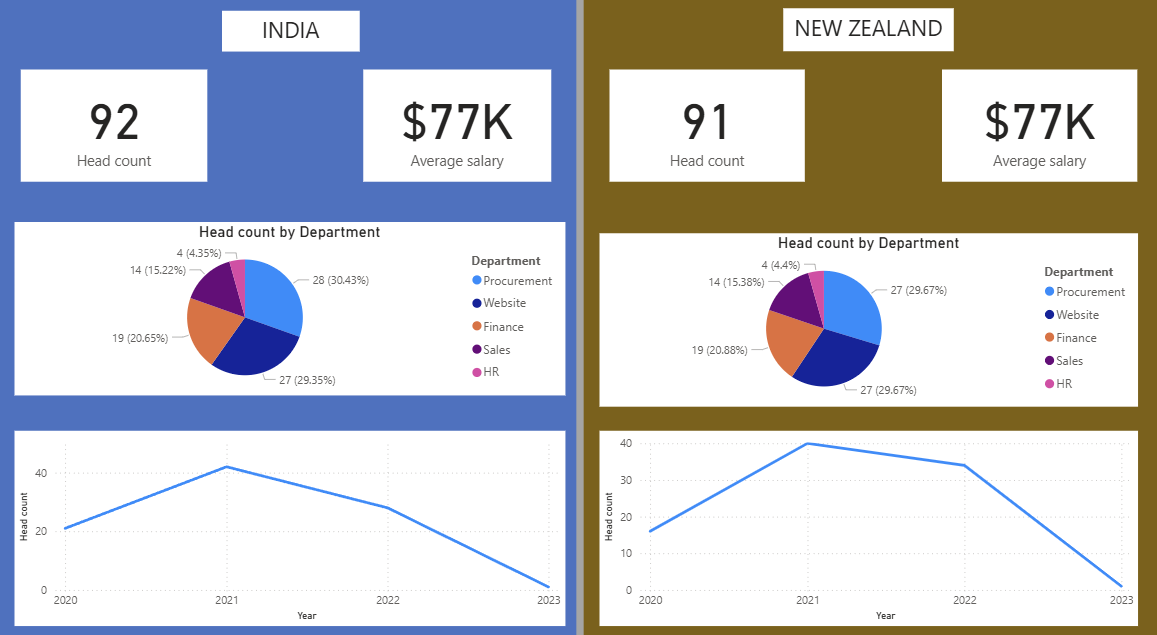

Layout of this report page (visuals, bound fields, positions):
{"tool":"powerbi","page":{"name":"Q 10","canvas":[1280,720],"ordinal":9},"visuals":[{"type":"card","fields":{"Values":["Data.Head count"]},"box":[26.5,85.7,205.1,123.1],"z":0},{"type":"card","fields":{"Values":["Data.Head count"]},"box":[672,85.7,214.7,123.1],"z":1000},{"type":"card","fields":{"Values":["Data.Average salary"]},"box":[401.7,85.7,206.3,123.1],"z":2000},{"type":"card","fields":{"Values":["Data.Average salary"]},"box":[1037.5,85.7,214.7,123.1],"z":3000},{"type":"pieChart","fields":{"Category":["Data.Department"],"Y":["Data.Head count"]},"box":[19.3,252.1,604.4,190.6],"z":3001},{"type":"pieChart","fields":{"Category":["Data.Department"],"Y":["Data.Head count"]},"box":[661.1,264.2,591.2,190.6],"z":3002},{"type":"textbox","box":[247.3,20.5,150.8,44.6],"z":3005},{"type":"textbox","box":[862.6,18.1,187,47.1],"z":3006},{"type":"lineChart","fields":{"Category":["Data.Date Joined.Variation.Date Hierarchy.Year","Data.Date Joined.Variation.Date Hierarchy.Quarter","Data.Date Joined.Variation.Date Hierarchy.Month","Data.Date Joined.Variation.Date Hierarchy.Day"],"Y":["Data.Head count"]},"box":[19.3,481.4,604.4,214.7],"z":3007},{"type":"lineChart","fields":{"Category":["Data.Date Joined.Variation.Date Hierarchy.Year","Data.Date Joined.Variation.Date Hierarchy.Quarter","Data.Date Joined.Variation.Date Hierarchy.Month","Data.Date Joined.Variation.Date Hierarchy.Day"],"Y":["Data.Head count"]},"box":[661.1,481.4,591.2,214.7],"z":3008}]}

Visuals, with their boxes in screenshot pixels (x1, y1, x2, y2), scaled from the page's 1280x720 canvas onto the 1157x635 screenshot:
card - Data.Head count: 24:76:209:184
card - Data.Head count: 607:76:801:184
card - Data.Average salary: 363:76:550:184
card - Data.Average salary: 938:76:1132:184
pieChart - Data.Department x Data.Head count: 17:222:564:390
pieChart - Data.Department x Data.Head count: 598:233:1132:401
textbox: 224:18:360:57
textbox: 780:16:949:58
lineChart - Data.Date Joined.Variation.Date Hierarchy.Year x Data.Date Joined.Variation.Date Hierarchy.Quarter: 17:425:564:614
lineChart - Data.Date Joined.Variation.Date Hierarchy.Year x Data.Date Joined.Variation.Date Hierarchy.Quarter: 598:425:1132:614
